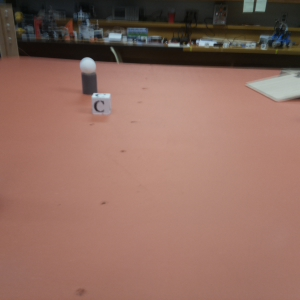blockC: (91, 93, 109, 118)
corner: (1, 6, 15, 54)
obstacle: (80, 58, 97, 96)
